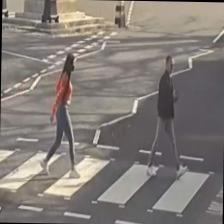person: (38, 52, 82, 178), (145, 54, 189, 180)
